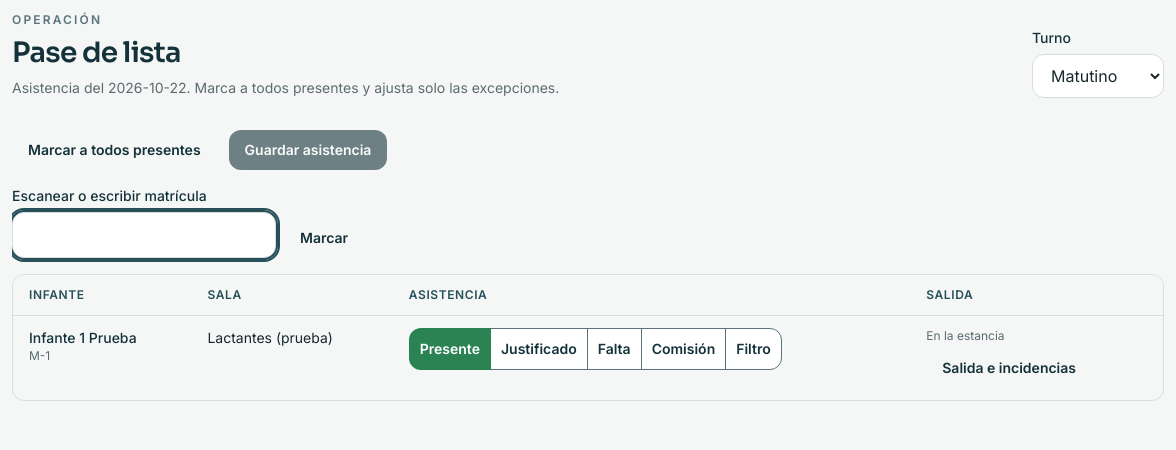
escaneo en el pase de lista (RF-13) › quien ya estaba presente se avisa sin volver a marcarlo
The width and height of the screenshot is (1176, 450).
Type "M-1" into the field labelled "Escanear o escribir matrícula" at (144, 235), box [12, 212, 276, 258]
Then press Enter
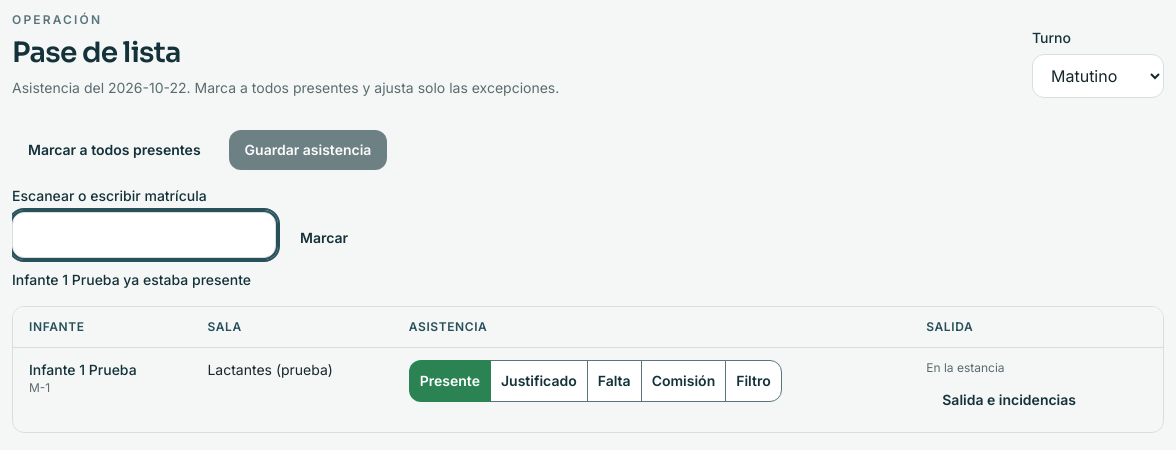
Expected: the button "Guardar asistencia" is disabled, [229, 130, 387, 170]
Expected: the message reads "Infante 1 Prueba ya estaba presente", [12, 271, 251, 288]
